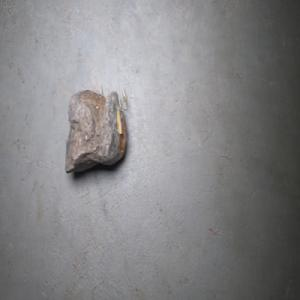Rock: (64, 85, 128, 173)
